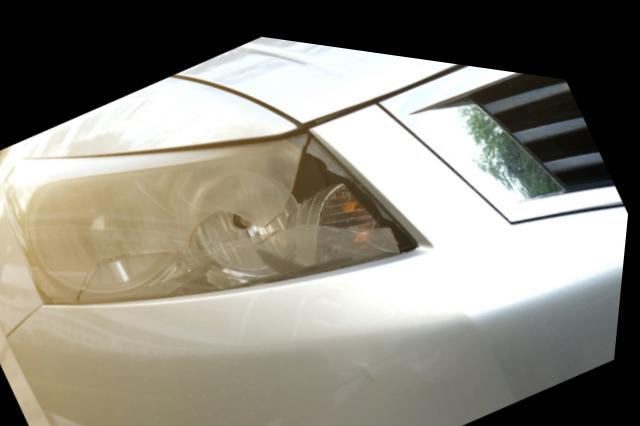lamp broken: (10, 121, 423, 302)
